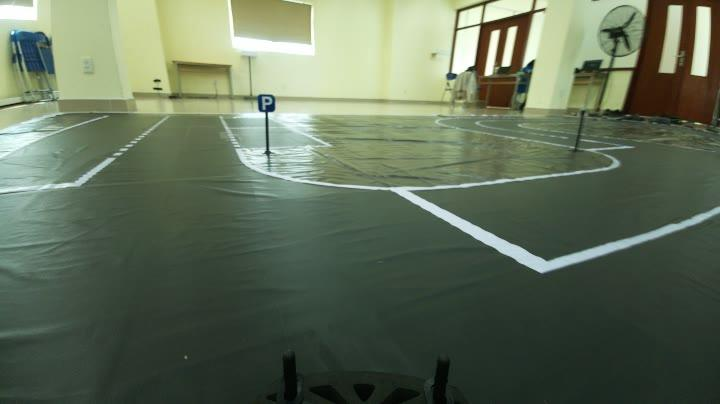parking: (253, 88, 284, 120)
